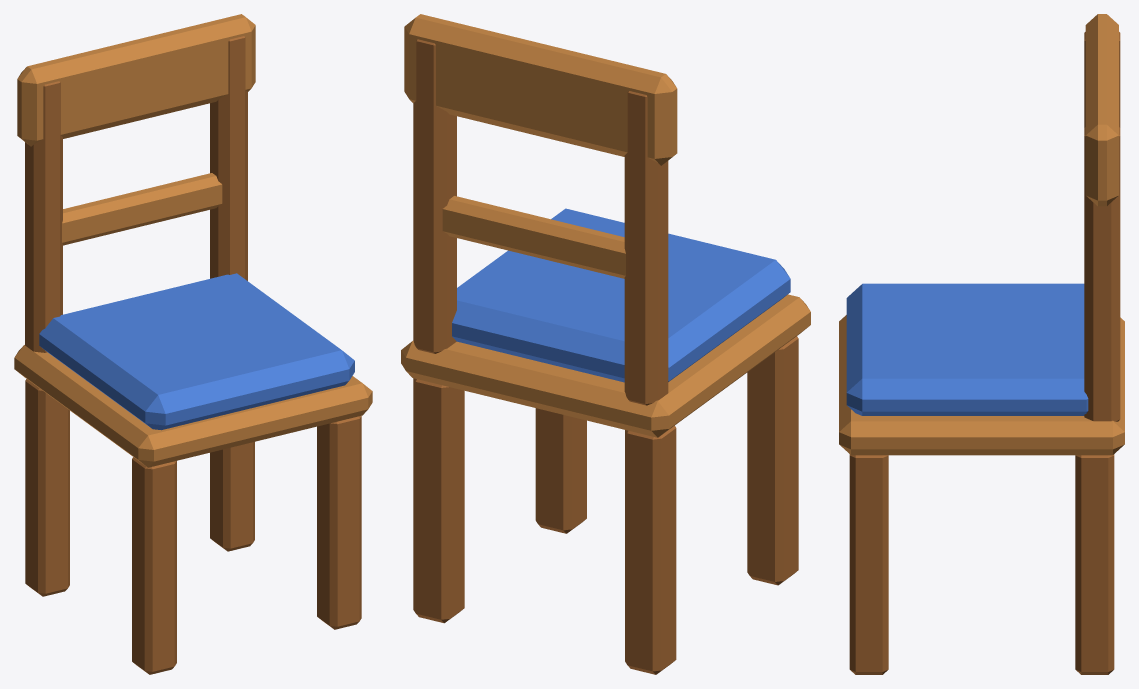
Rendered from BlueDiningChair.fbx.
3 views of the same model, side by side, from view 1: azimuth 30°, elevation 25°; view 2: azimuth 150°, elevation 25°; view 3: azimuth 270°, elevation 25° (orthographic). The views are drawn at different scales.
Parts seen in each view (by area): view 1: BlueDiningChair; view 2: BlueDiningChair; view 3: BlueDiningChair.
Boxes of the visible parts, x1,y1,x2,y2 form: BlueDiningChair: (14,14,372,674); BlueDiningChair: (401,14,810,674); BlueDiningChair: (839,14,1124,674).
Size of the model in its own units: 1.9 by 4.05 by 1.9.
Materials: 1 (1 with a texture image).
